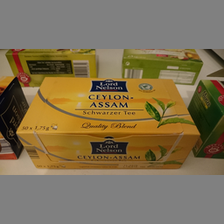tea: (15, 75, 201, 171), (5, 50, 99, 85), (186, 79, 224, 158), (121, 50, 203, 84)
